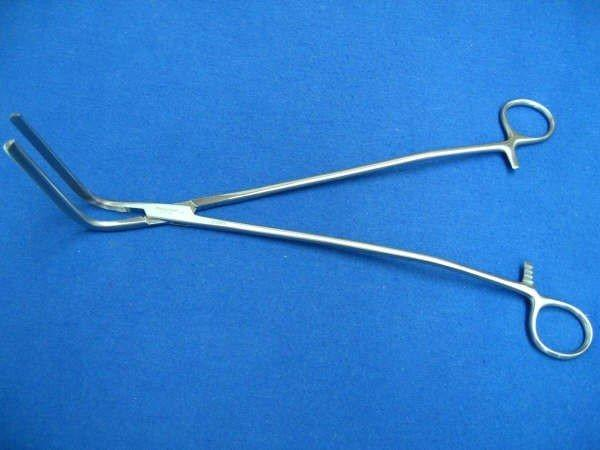Right Angle Colon Clamp: (1, 95, 593, 367)
